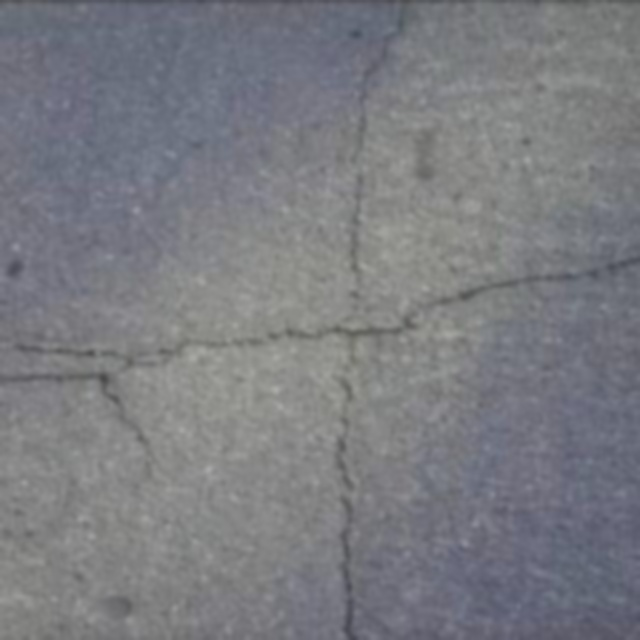SurfaceCrack: (298, 22, 428, 640)
